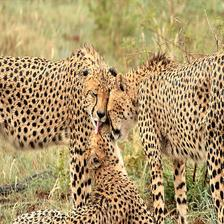Cheetah: (0, 42, 116, 216), (107, 52, 224, 223), (2, 122, 154, 224)
